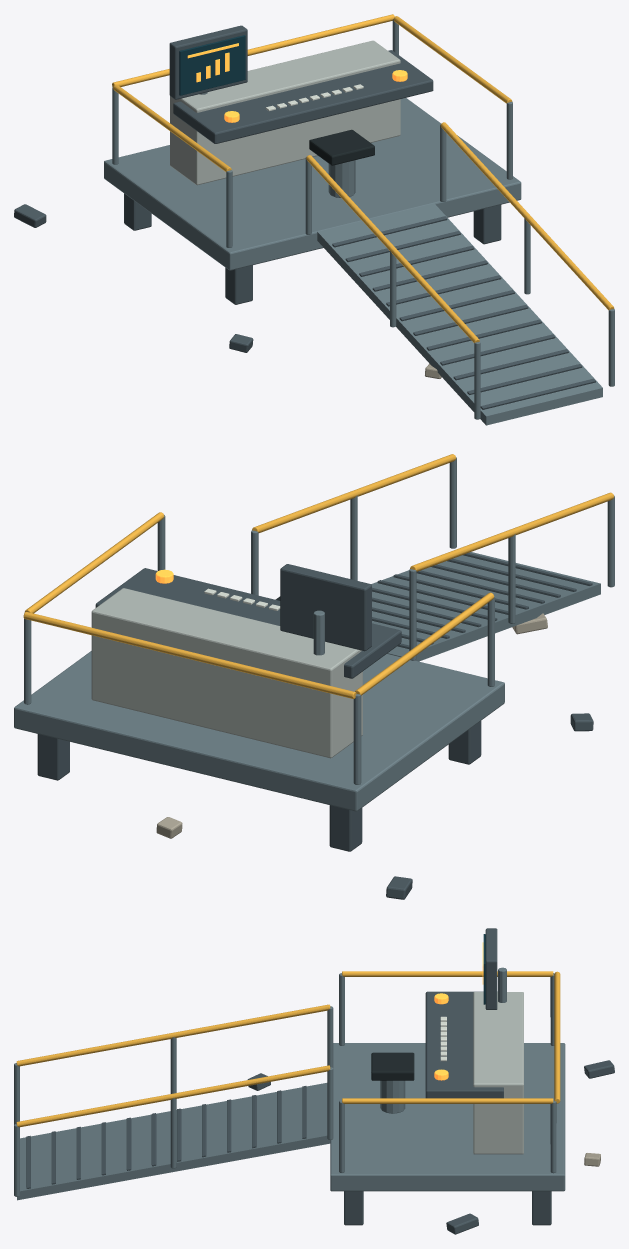
The model's file is control_platform_d2.glb.
3 renders of one model, top to bottom at view 1: azimuth 30°, elevation 25°; view 2: azimuth 150°, elevation 25°; view 3: azimuth 270°, elevation 25°, orthographic. The views are drawn at different scales.
Parts seen in each view (by area): view 1: Operator platform.006, Human access ramp.006, Control cabinet.005, Operator desk.005, Monitor screen.013, Monitor housing.013, Ramp handrail.012, Ramp handrail.013, Stool seat.005, Platform back rail.006, Platform pier.026, Platform side rail.013 (+5 smaller); view 2: Operator platform.006, Control cabinet.005, Human access ramp.006, Monitor housing.013, Operator desk.005, Platform back rail.006, Ramp handrail.013, Ramp handrail.012, Platform pier.025, Platform side rail.012, Platform side rail.013, Platform pier.027 (+9 smaller); view 3: Operator platform.006, Human access ramp.006, Control cabinet.005, Operator desk.005, Ramp handrail.012, Ramp handrail.013, Platform side rail.013, Stool seat.005, Platform side rail.012, Monitor housing.013, Platform back rail.006, Operator stool.005 (+10 smaller).
Part boxes in pixels (x1=…): Operator platform.006: x1=104, y1=98, x2=521, y2=270; Human access ramp.006: x1=317, y1=203, x2=602, y2=425; Control cabinet.005: x1=170, y1=40, x2=400, y2=185; Operator desk.005: x1=173, y1=50, x2=433, y2=143; Monitor screen.013: x1=179, y1=35, x2=245, y2=95; Monitor housing.013: x1=169, y1=25, x2=247, y2=99; Ramp handrail.012: x1=306, y1=155, x2=479, y2=342; Ramp handrail.013: x1=440, y1=122, x2=614, y2=310; Stool seat.005: x1=309, y1=129, x2=374, y2=165; Platform back rail.006: x1=112, y1=14, x2=394, y2=86; Platform pier.026: x1=473, y1=205, x2=501, y2=244; Platform side rail.013: x1=393, y1=16, x2=512, y2=103; Operator platform.006: x1=14, y1=651, x2=504, y2=811; Control cabinet.005: x1=91, y1=588, x2=362, y2=758; Human access ramp.006: x1=371, y1=552, x2=600, y2=661; Monitor housing.013: x1=280, y1=564, x2=371, y2=651; Operator desk.005: x1=95, y1=568, x2=401, y2=678; Platform back rail.006: x1=23, y1=612, x2=356, y2=698; Ramp handrail.013: x1=252, y1=454, x2=456, y2=532; Ramp handrail.012: x1=410, y1=492, x2=614, y2=571; Platform pier.025: x1=329, y1=805, x2=362, y2=851; Platform side rail.012: x1=355, y1=592, x2=494, y2=695; Platform side rail.013: x1=24, y1=512, x2=164, y2=613; Platform pier.027: x1=37, y1=734, x2=69, y2=780; Operator platform.006: x1=330, y1=1043, x2=565, y2=1191; Human access ramp.006: x1=17, y1=1083, x2=330, y2=1200; Control cabinet.005: x1=473, y1=992, x2=523, y2=1154; Operator desk.005: x1=425, y1=991, x2=503, y2=1098; Ramp handrail.012: x1=16, y1=1004, x2=330, y2=1066; Ramp handrail.013: x1=16, y1=1065, x2=330, y2=1127; Platform side rail.013: x1=342, y1=1098, x2=553, y2=1103; Stool seat.005: x1=371, y1=1052, x2=414, y2=1080; Platform side rail.012: x1=342, y1=971, x2=553, y2=976; Monitor housing.013: x1=485, y1=928, x2=497, y2=1009; Platform back rail.006: x1=554, y1=971, x2=560, y2=1103; Operator stool.005: x1=380, y1=1080, x2=405, y2=1113.
Size of the model in its own units: 4.99 by 2.72 by 7.67.
